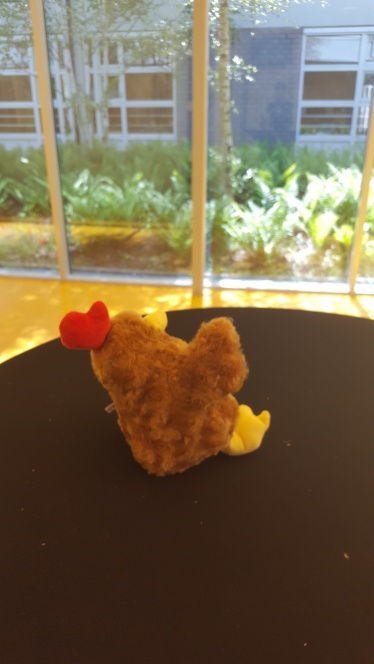chicken_left: (59, 301, 271, 478)
